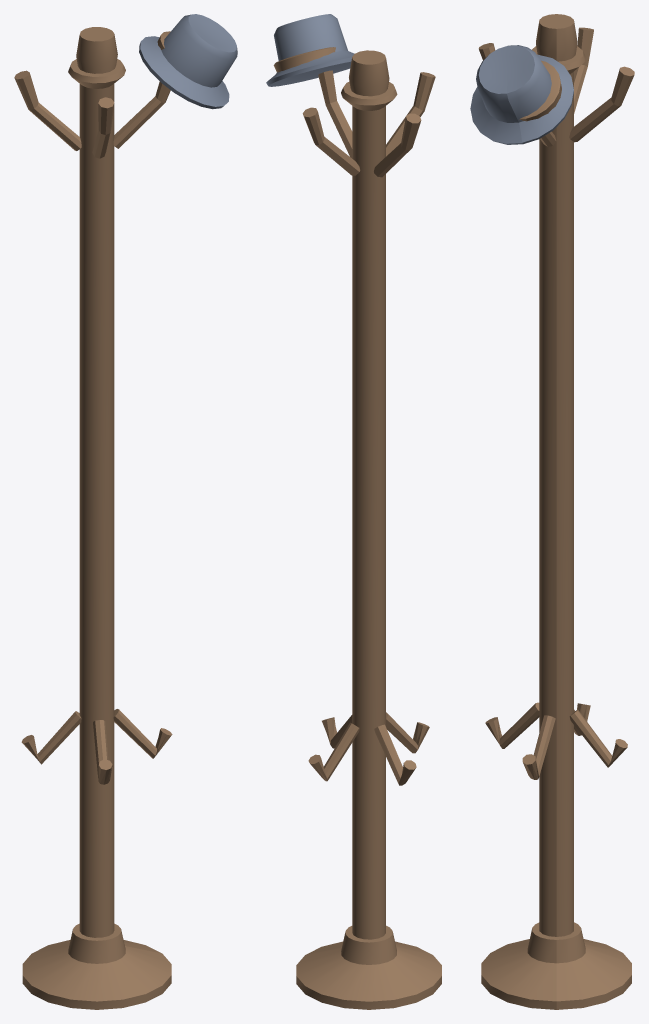
The model's file is police-station-and-detective-office-coat-stand-with-ha-9f0a6e43__29987.glb.
3 views of the same model, side by side, from view 1: azimuth 30°, elevation 25°; view 2: azimuth 150°, elevation 25°; view 3: azimuth 270°, elevation 25° (orthographic). The views are drawn at different scales.
Parts seen in each view (by area): view 1: coat-stand-with-hat; view 2: coat-stand-with-hat; view 3: coat-stand-with-hat.
Boxes of the visible parts, x1=… form: coat-stand-with-hat: x1=14, y1=14, x2=237, y2=1009; coat-stand-with-hat: x1=266, y1=14, x2=441, y2=1009; coat-stand-with-hat: x1=470, y1=14, x2=634, y2=1009.
Bounding box in the file's own units: 0.3594 × 1.81 × 0.2786.
